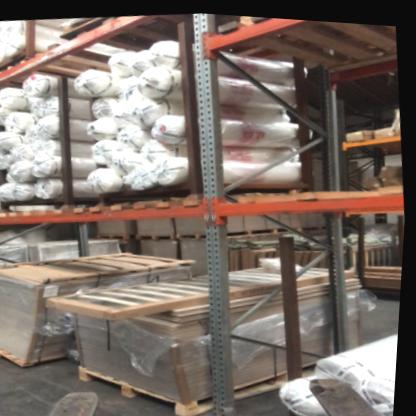vertical_damage: (206, 390, 253, 416)
